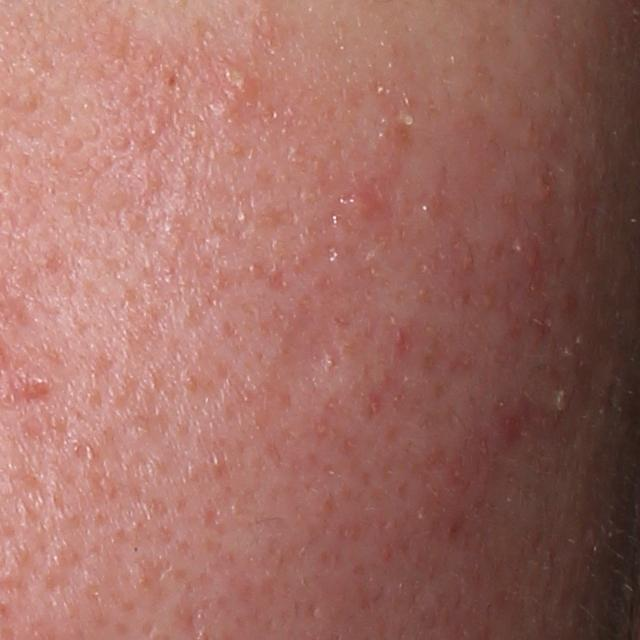papule: (222, 67, 250, 100)
pustule: (549, 386, 576, 419)
